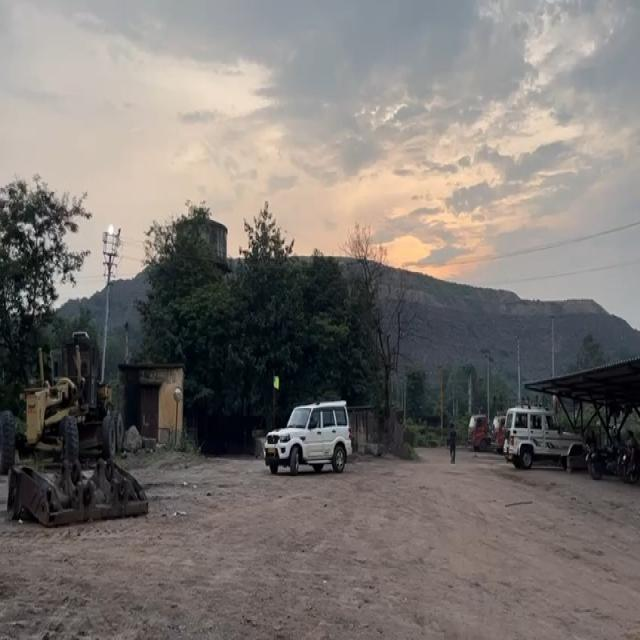light_vehicle: (263, 401, 353, 476), (502, 410, 575, 470)
